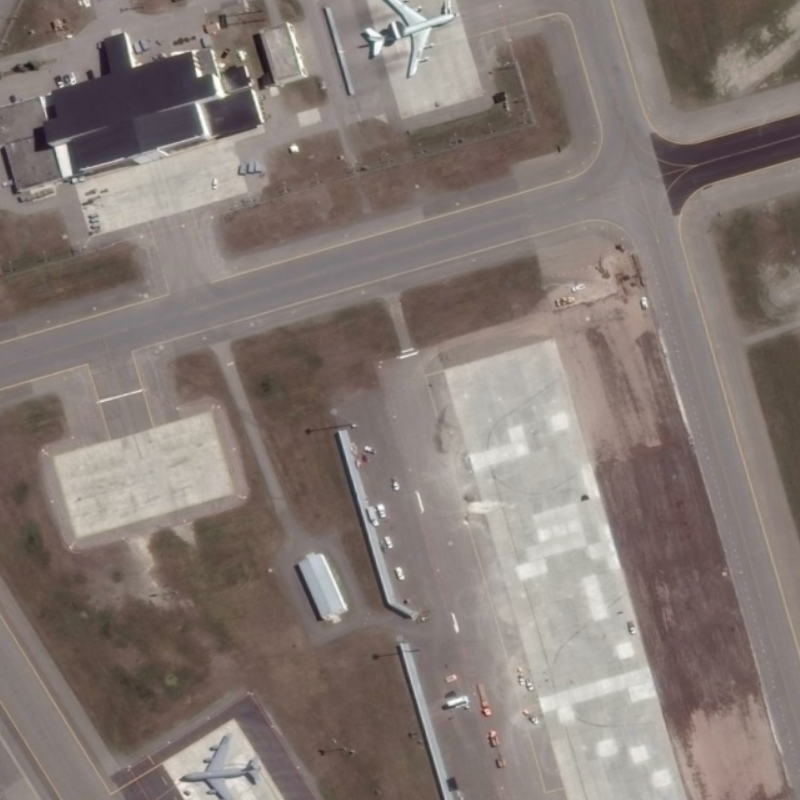A14: (170, 729, 265, 800)
A7: (357, 1, 465, 83)
